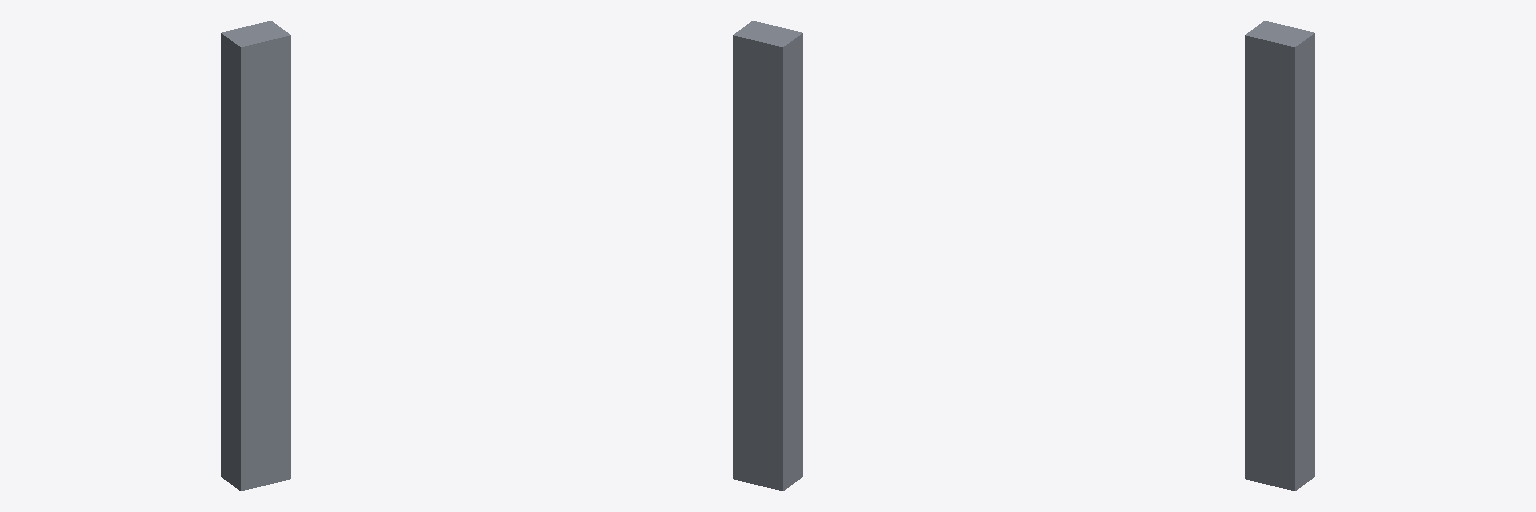
URDF robot description (artmanip_knife_000):
<?xml version='1.0' encoding='utf-8'?>
<robot name="artmanip_knife_000"><link name="link_0"><inertial><mass value="0.029739637123387286" /><inertia ixx="4.8751890382114936e-05" iyy="4.910995848805338e-05" izz="1.008246041216218e-06" ixy="0" ixz="0" iyz="0" /></inertial><visual><geometry><box size="0.016602866476713753 0.011453122508145213 0.13978664544193412" /></geometry><material name="link_0_color"><color rgba=".58 .60 .64 1" /></material></visual><collision><geometry><box size="0.016602866476713753 0.011453122508145213 0.13978664544193412" /></geometry></collision></link><link name="link_1"><inertial><mass value="0.006" /><inertia ixx="4.545e-07" iyy="5e-07" izz="5.45e-08" ixy="0" ixz="0" iyz="0" /></inertial><visual><geometry><mesh filename="slider-shoulder.obj" /></geometry><material name="link_1_color"><color rgba=".12 .13 .15 1" /></material></visual><collision><geometry><mesh filename="slider-shoulder.obj" /></geometry></collision></link><joint name="slider" type="prismatic"><parent link="link_0" /><child link="link_1" /><origin xyz="0.0005381804410543793 0.007194549041006419 0.006423901080510669" /><axis xyz="0 0 1" /><limit lower="-0.03267458688196273" upper="0.017325413118037272" effort="100" velocity="1" /><dynamics damping="1000" friction="0.001" /></joint></robot>

--- Render facts (derived) ---
3 views of the same robot in one strip: view 1: azimuth 30°, elevation 25°; view 2: azimuth 150°, elevation 25°; view 3: azimuth 330°, elevation 25° (orthographic).
Model artmanip_knife_000 with 2 links and 1 joints (1 prismatic), rooted at link_0, posed every joint at zero.
Links seen in each view (by area): view 1: link_0; view 2: link_0; view 3: link_0.
Boxes of the visible links, box(x1,y1,x2,y2) form: link_0: box(221, 21, 290, 490); link_0: box(733, 21, 802, 490); link_0: box(1245, 21, 1314, 490).
Size in the robot's own frame: 0.0166 by 0.0115 by 0.1398 metres.
0 mesh visuals loaded from 1 distinct referenced files (none loaded); not drawn: 1 (reference not matched to a file when rendering).
